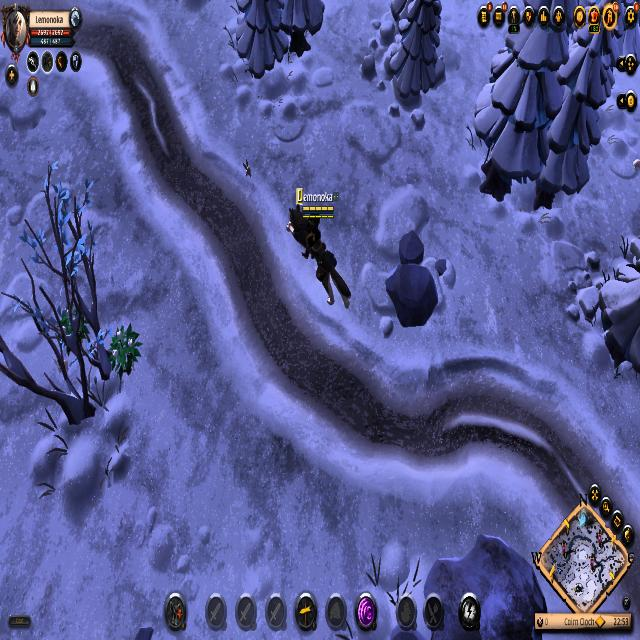fiber tier 3: (108, 322, 145, 386)
